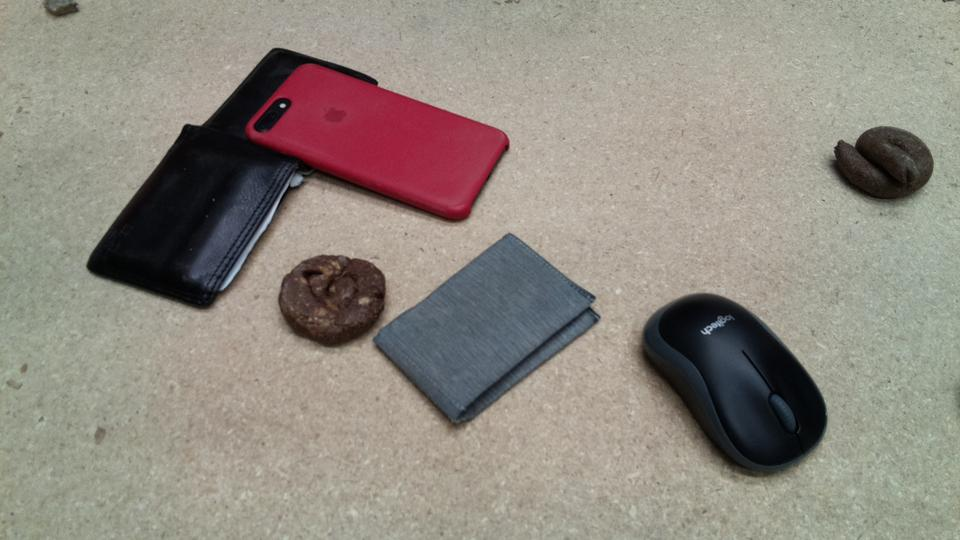poop: (274, 252, 389, 347), (831, 124, 938, 204)
